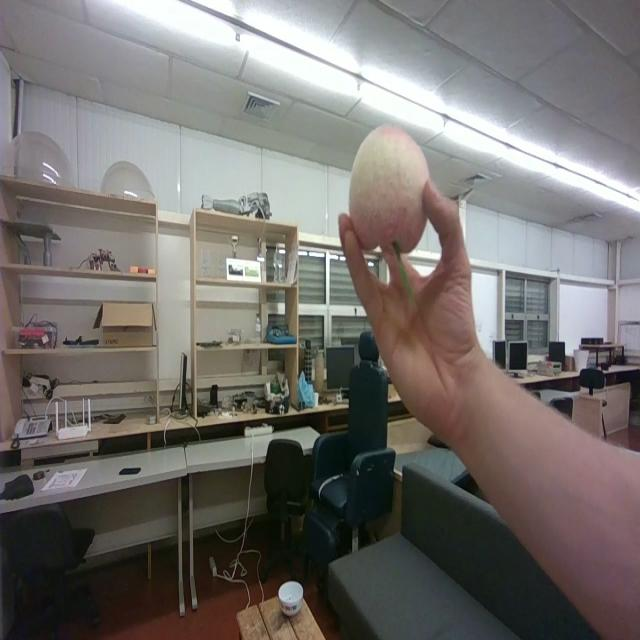peach: (349, 127, 429, 252)
